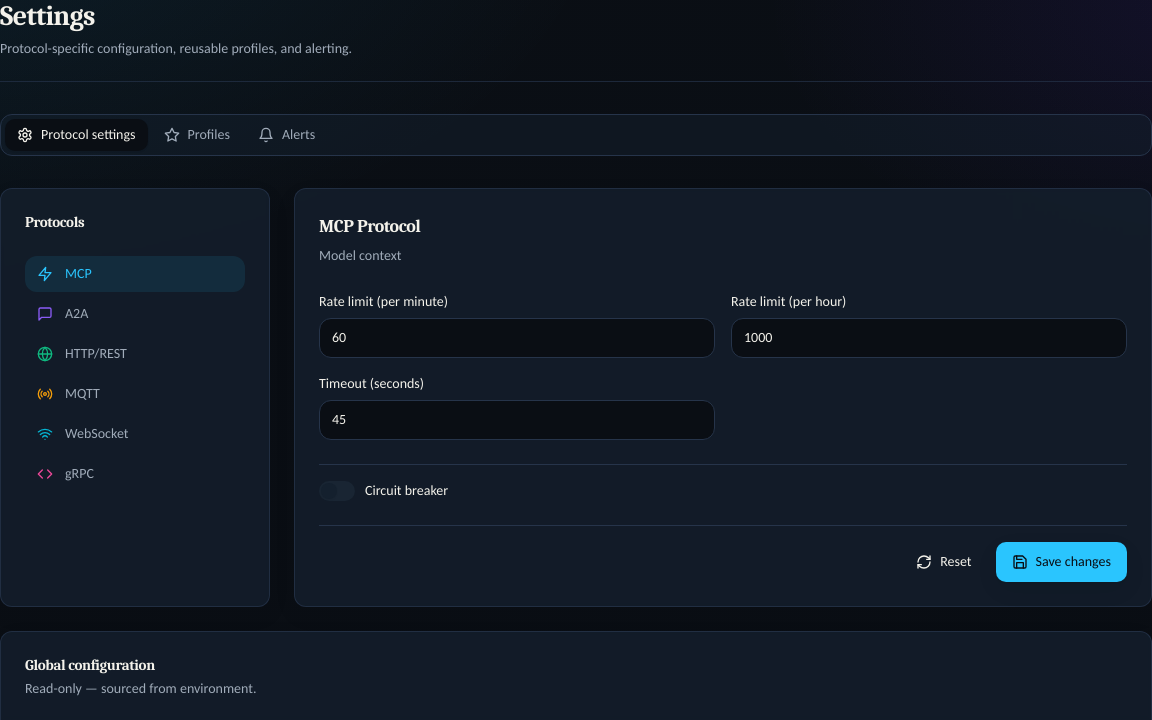
Test: Settings page › profiles tab › lists profiles with default badge, or an empty state
Click the tab "Profiles" at (197, 135), box 152,119 -> 242,151
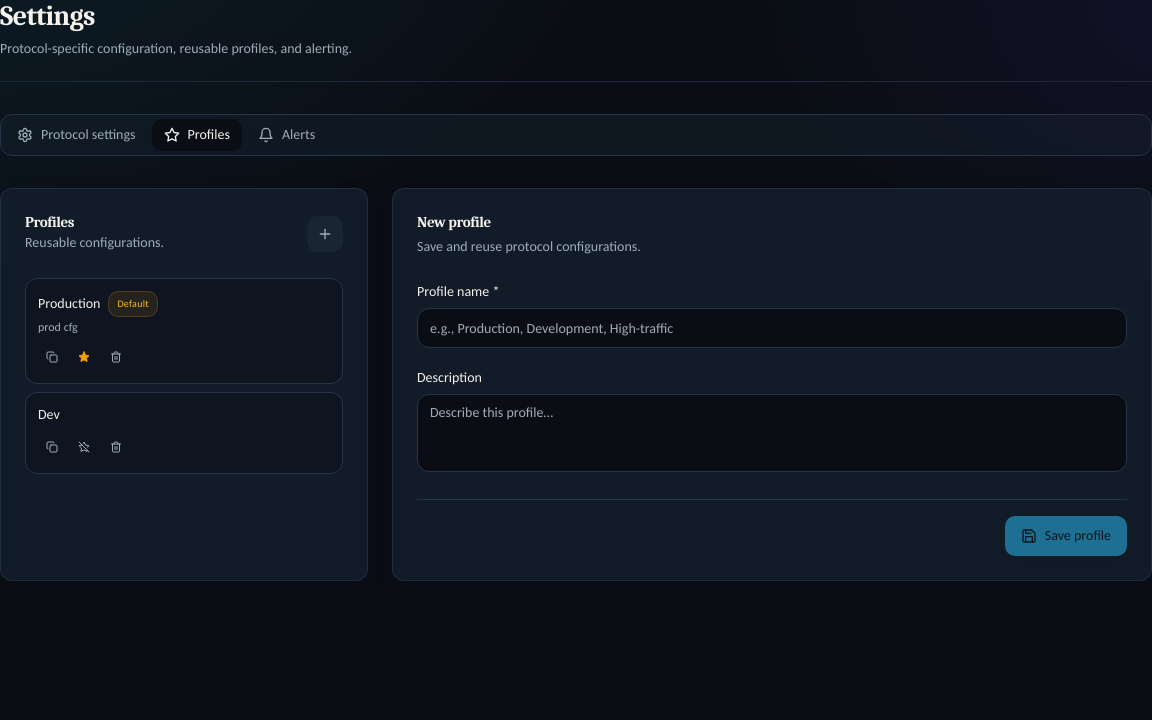
Check: the text "Production" is shown, box 38,294 -> 100,314
Check: the text "Default" is shown, box 108,291 -> 158,317
Check: the text "prod cfg" is shown, box 38,320 -> 78,334
